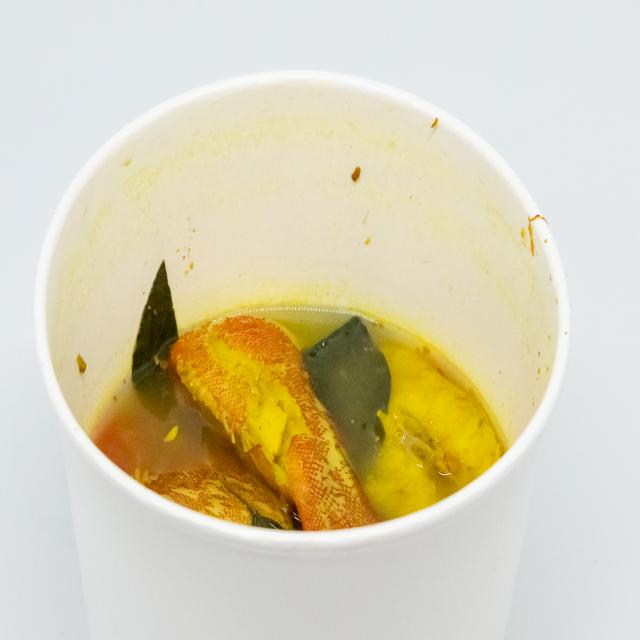Gulai-Ikan-Mas: (72, 213, 524, 566)
